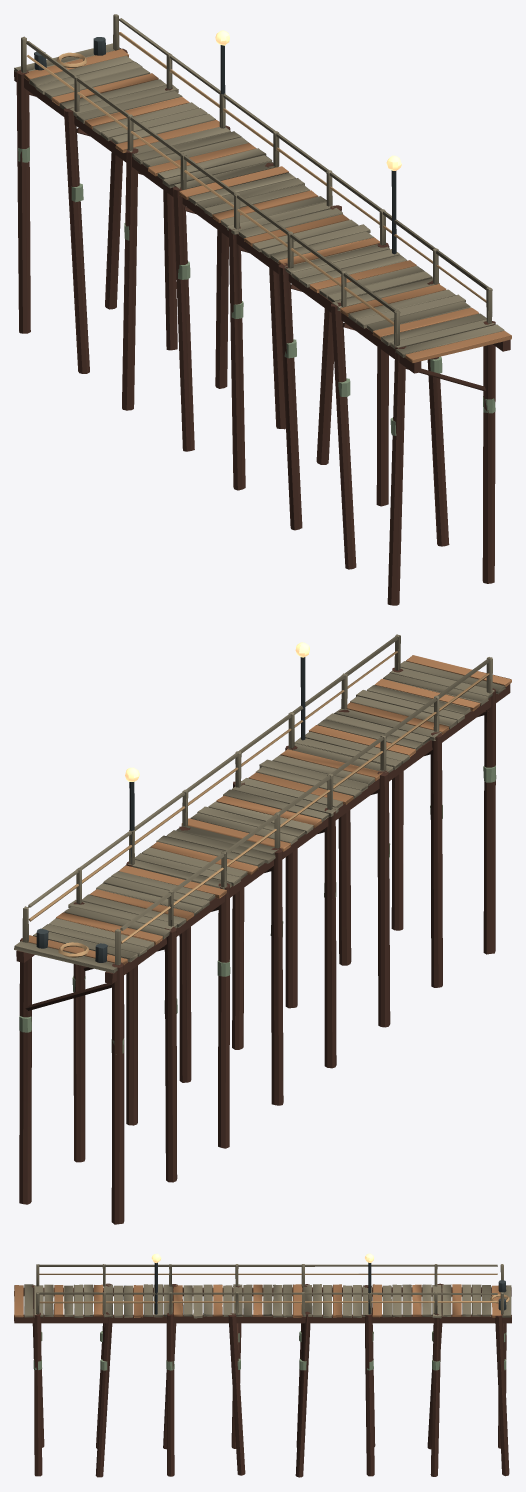
Rendered from pier.glb.
3 views of the same model, one above another, from view 1: azimuth 30°, elevation 25°; view 2: azimuth 150°, elevation 25°; view 3: azimuth 270°, elevation 25° (orthographic). The views are drawn at different scales.
Parts seen in each view (by area): view 1: Pier; view 2: Pier; view 3: Pier.
Part boxes in pixels (x1,y1,x2,y2): Pier: (14, 14, 511, 605); Pier: (14, 634, 511, 1224); Pier: (14, 1253, 511, 1477).
Bounding box in the file's own units: 3.33 × 10.32 × 21.02.
